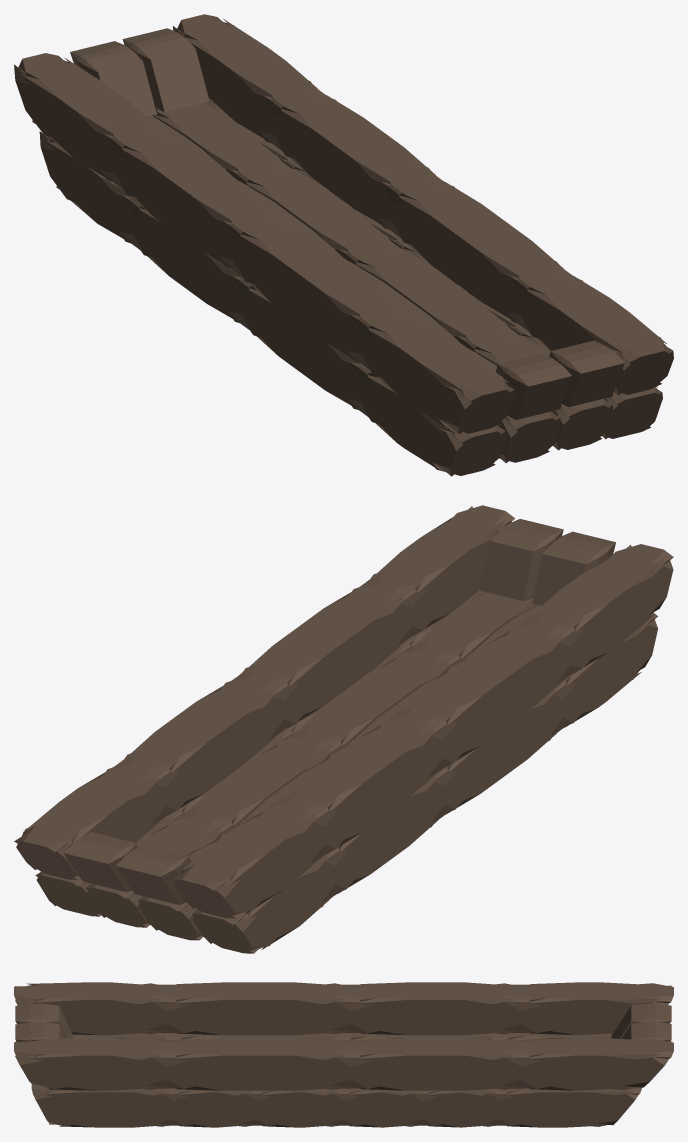
The model's file is vv_bebedero.glb.
3 renders of one model, top to bottom at view 1: azimuth 30°, elevation 25°; view 2: azimuth 150°, elevation 25°; view 3: azimuth 270°, elevation 25°, orthographic. The views are drawn at different scales.
Visible parts, largest first — view 1: Cube.004_5, Cube.003_4, Cube.006_7, Cube.001_2, Cube.007_8, Cube.008_9, Cube.005_6, Cube.002_3; view 2: Cube.004_5, Cube.003_4, Cube.006_7, Cube.001_2, Cube.007_8, Cube.008_9, Cube.005_6, Cube.002_3; view 3: Cube.003_4, Cube.004_5, Cube.002_3, Cube.006_7, Cube.008_9, Cube.007_8.
Part boxes in pixels (box(x1,y1,x2,y2)): Cube.004_5: box(14, 53, 514, 434); Cube.003_4: box(173, 14, 673, 395); Cube.006_7: box(39, 131, 506, 476); Cube.001_2: box(152, 102, 613, 450); Cube.007_8: box(122, 28, 624, 407); Cube.008_9: box(70, 41, 571, 419); Cube.005_6: box(147, 115, 560, 462); Cube.002_3: box(205, 99, 662, 439); Cube.004_5: box(173, 544, 673, 918); Cube.003_4: box(14, 505, 514, 879); Cube.006_7: box(191, 613, 658, 953); Cube.001_2: box(85, 592, 536, 927); Cube.007_8: box(63, 519, 563, 892); Cube.008_9: box(116, 531, 615, 904); Cube.005_6: box(137, 604, 541, 940); Cube.002_3: box(35, 590, 485, 916); Cube.003_4: box(14, 1038, 673, 1090); Cube.004_5: box(14, 982, 673, 1035); Cube.002_3: box(31, 1084, 641, 1127); Cube.006_7: box(72, 1033, 612, 1040); Cube.008_9: box(15, 1003, 671, 1038); Cube.007_8: box(15, 1021, 671, 1041).
Size of the model in its own units: 1.92 by 0.881 by 7.32.
